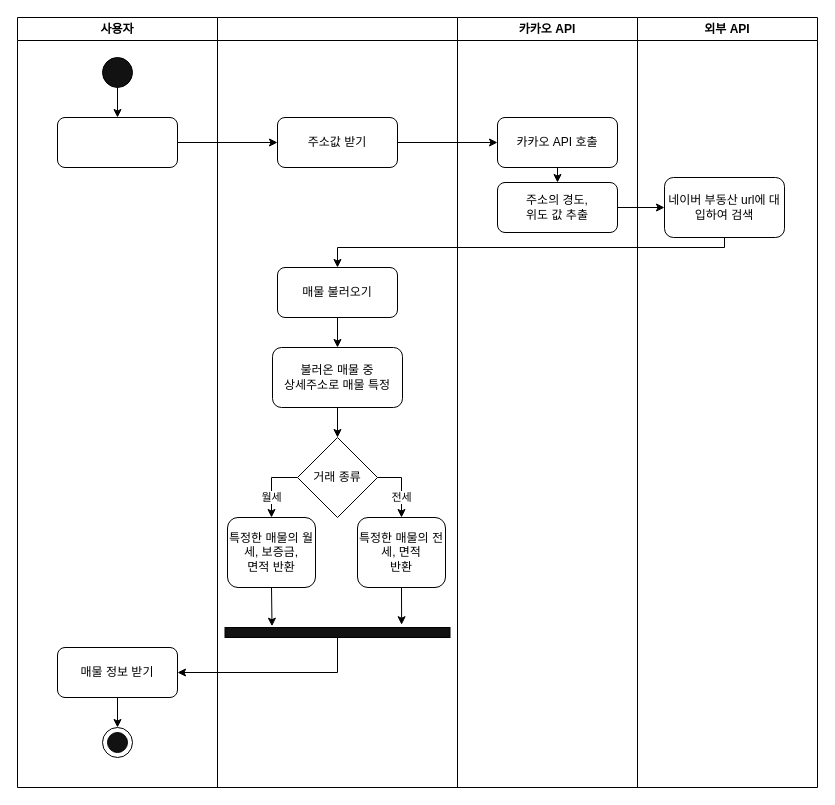
Some shapes in this 835 by 805 pixel diagram are drawn without their labels. The shapes that lost their labels are listed below. From the top down, each one's box as (x1, y1, x2, y2) in pixels, then its label:
(56, 116, 178, 168): 주소 입력
(216, 16, 458, 788): 서버/DB
